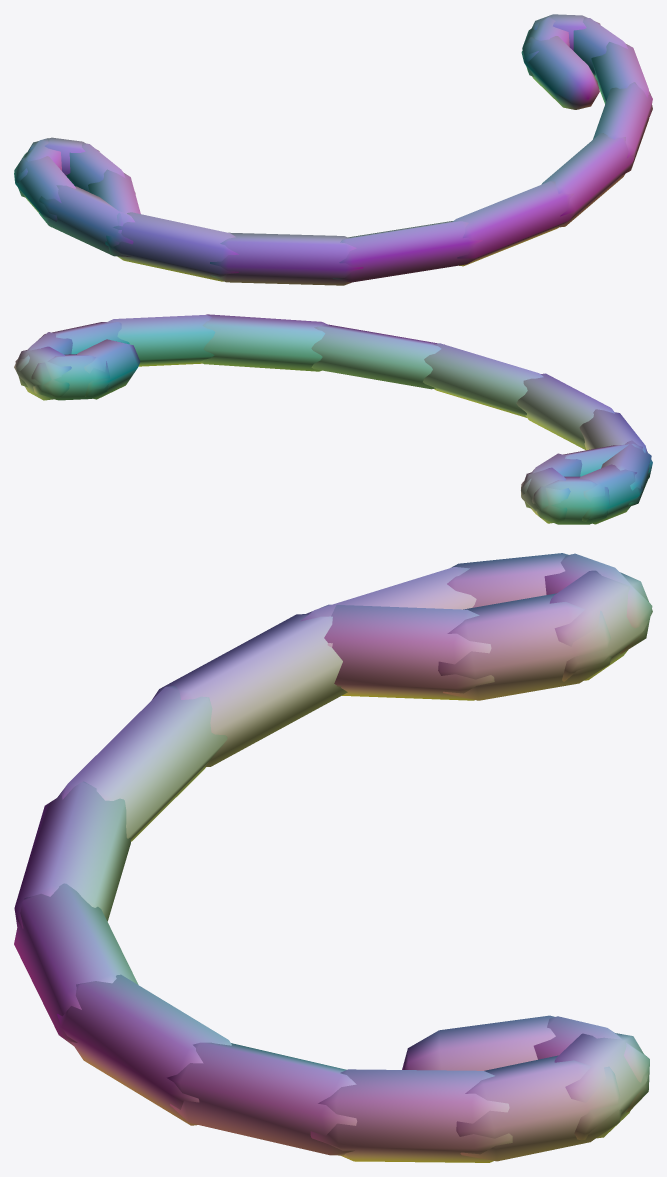
Rendered from env_deco_ribbon.glb.
3 renders of one model, top to bottom at view 1: azimuth 30°, elevation 25°; view 2: azimuth 150°, elevation 25°; view 3: azimuth 270°, elevation 25°, orthographic. The views are drawn at different scales.
Parts seen in each view (by area): view 1: env_deco_ribbon_mesh; view 2: env_deco_ribbon_mesh; view 3: env_deco_ribbon_mesh.
Boxes of the visible parts, x1=… form: env_deco_ribbon_mesh: x1=14, y1=14, x2=652, y2=285; env_deco_ribbon_mesh: x1=14, y1=314, x2=652, y2=524; env_deco_ribbon_mesh: x1=14, y1=553, x2=652, y2=1162.
Size of the model in its own units: 0.3313 by 0.0436 by 0.1629.
